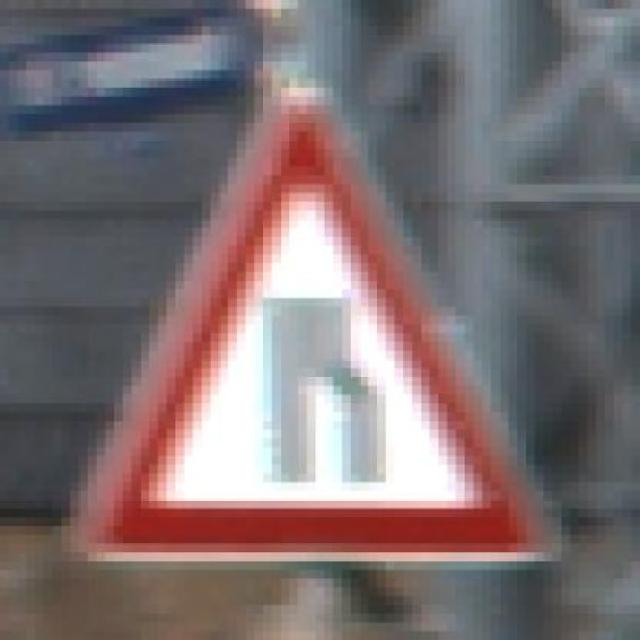-Road narrows on right: (35, 79, 579, 578)
